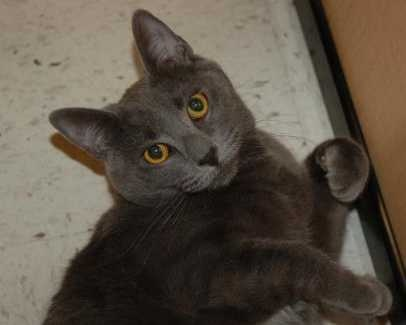Cat: (46, 9, 391, 324)
